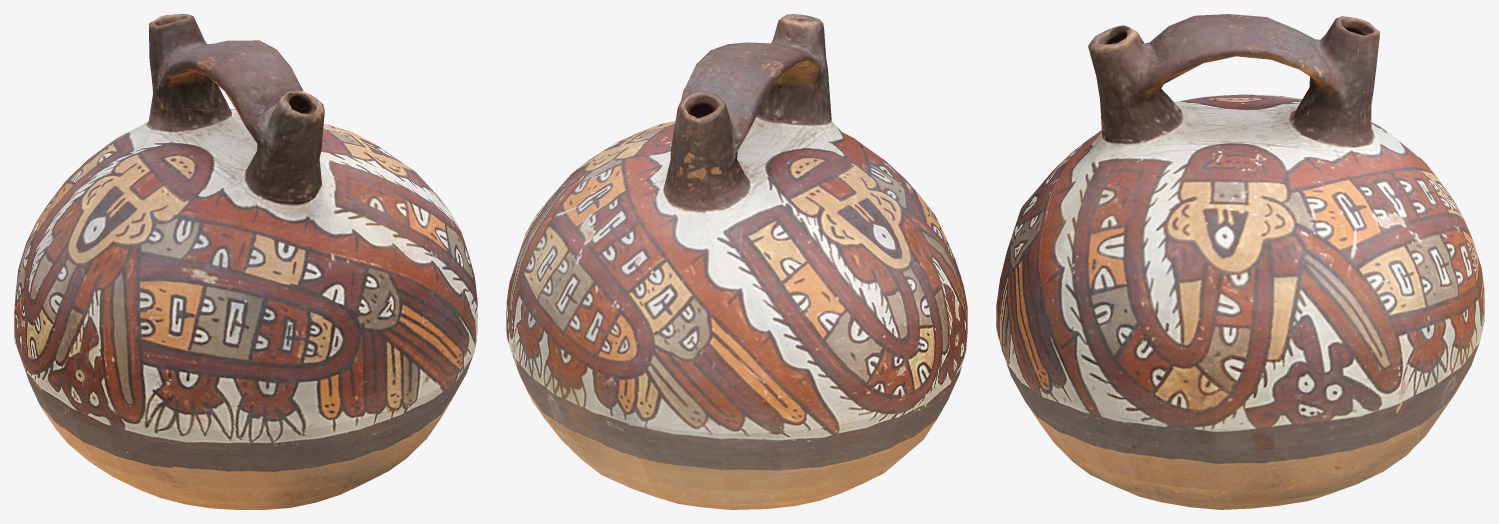
File: objeto_13_nasca.glb
3 views of the same model, side by side, from view 1: azimuth 30°, elevation 25°; view 2: azimuth 150°, elevation 25°; view 3: azimuth 270°, elevation 25° (orthographic). The views are drawn at different scales.
Parts seen in each view (by area): view 1: Box001_02 - Default_0; view 2: Box001_02 - Default_0; view 3: Box001_02 - Default_0.
Part boxes in pixels (x1,y1,x2,y2): Box001_02 - Default_0: (14, 14, 477, 509); Box001_02 - Default_0: (506, 14, 967, 509); Box001_02 - Default_0: (996, 14, 1484, 509).
Size of the model in its own units: 76.2 by 75.85 by 76.28.
1 material, 1 textured.
